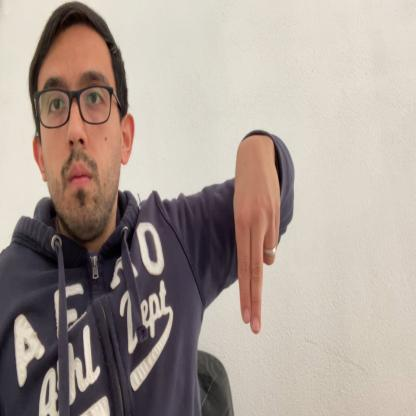N: (233, 141, 282, 333)
